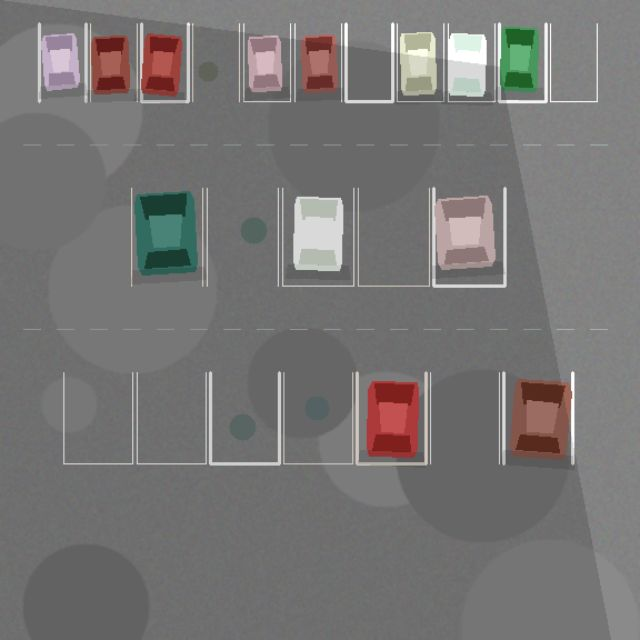space-empty: (207, 188, 278, 286), (358, 188, 429, 286), (63, 372, 132, 463), (137, 372, 206, 463), (210, 372, 279, 463), (283, 372, 352, 463), (430, 372, 499, 463), (192, 23, 239, 101), (550, 23, 597, 101), (346, 23, 392, 101)
space-occupied: (131, 188, 202, 286), (282, 188, 353, 286), (433, 188, 504, 286), (357, 372, 426, 463), (503, 372, 572, 463), (39, 23, 86, 101), (90, 23, 137, 101), (141, 23, 188, 101), (243, 23, 290, 101), (294, 23, 341, 101), (499, 23, 546, 101), (397, 23, 443, 101), (448, 23, 494, 101)
